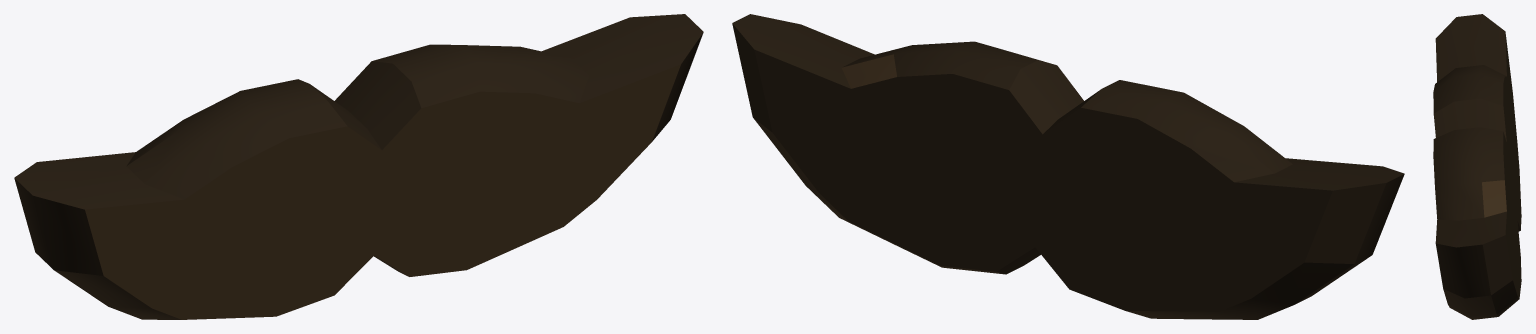
File: outfit-mustache.fbx
The picture shows the model from 3 angles, left to right: view 1: azimuth 30°, elevation 25°; view 2: azimuth 150°, elevation 25°; view 3: azimuth 270°, elevation 25°; orthographic projection. The views are drawn at different scales.
Parts seen in each view (by area): view 1: mustache; view 2: mustache; view 3: mustache.
Part boxes in pixels (x1,y1,x2,y2): mustache: [14, 14, 703, 319]; mustache: [732, 14, 1404, 319]; mustache: [1433, 14, 1521, 319].
Bounding box in the file's own units: 0.4012 × 0.1234 × 0.0648.
